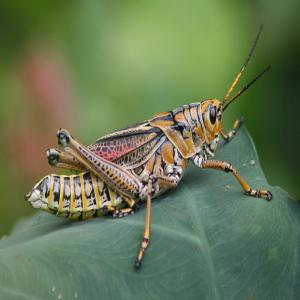locust: (26, 60, 273, 221)
